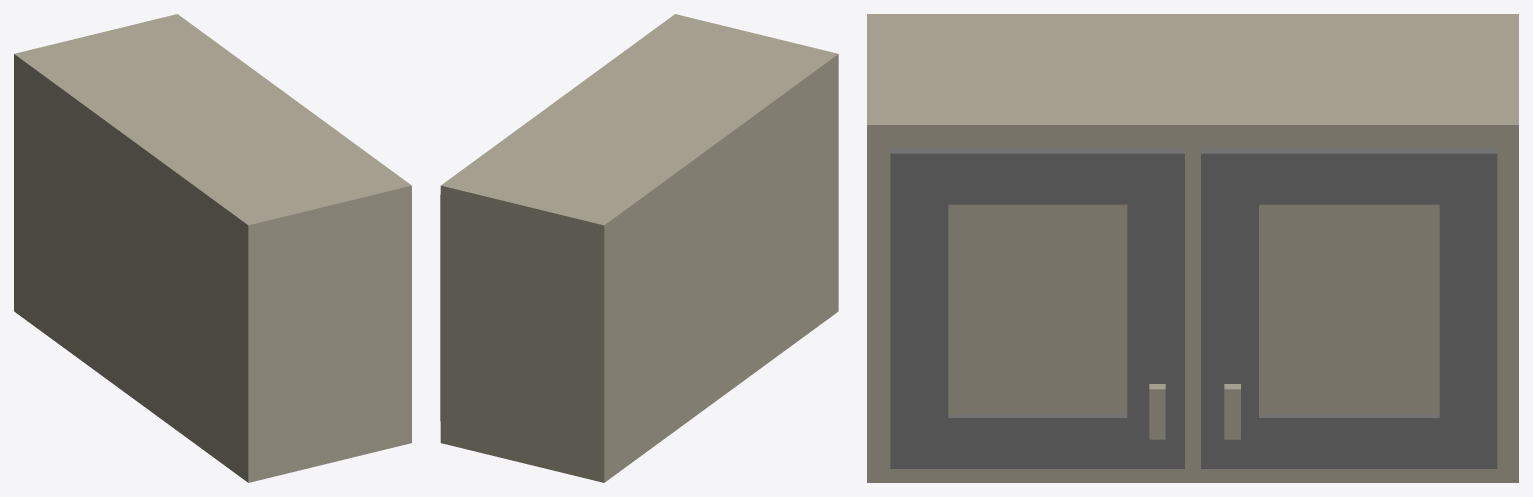
Rendered from S_Mobile.fbx.
3 views of the same model, side by side, from view 1: azimuth 30°, elevation 25°; view 2: azimuth 150°, elevation 25°; view 3: azimuth 270°, elevation 25° (orthographic). The views are drawn at different scales.
Visible parts, largest first — view 1: S_Mobile; view 2: S_Mobile; view 3: S_Mobile.
Part boxes in pixels (<box>): S_Mobile: <box>14,14,411,482</box>; S_Mobile: <box>440,14,838,482</box>; S_Mobile: <box>867,14,1518,482</box>.
Bounding box in the file's own units: 66.81 × 91.69 × 151.
